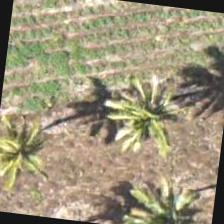Kelapa_Sawit: (100, 60, 200, 160), (0, 99, 68, 197)
